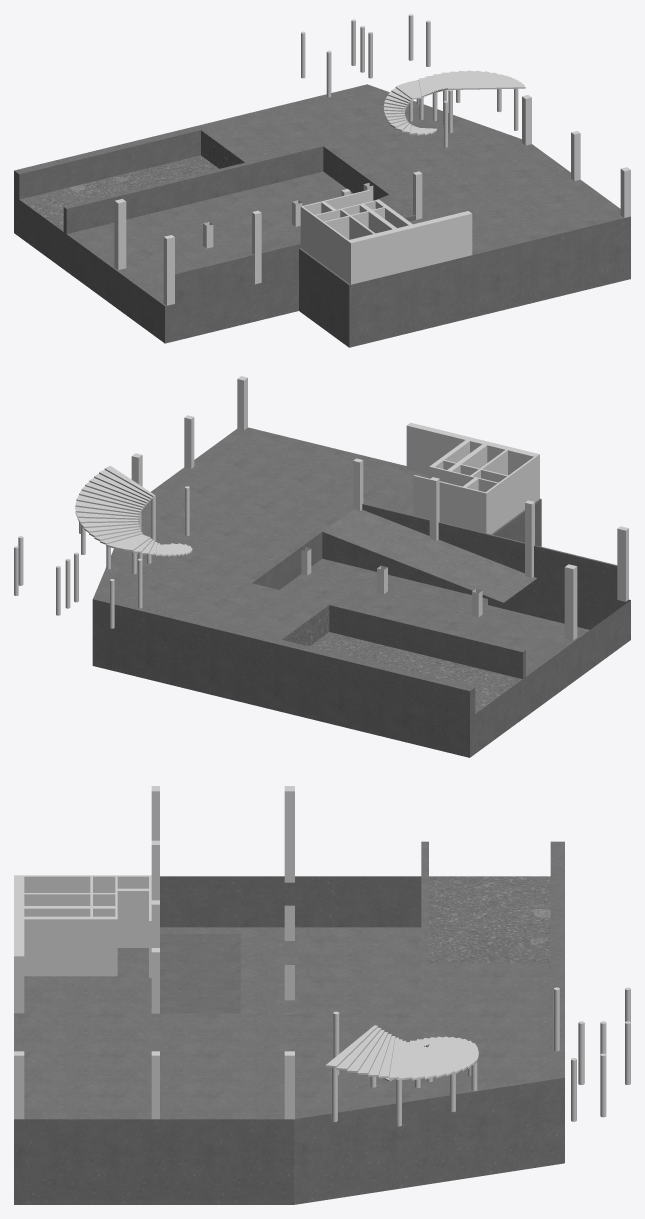
Rendered from Build_B1.fbx.
3 views of the same model, one above another, from view 1: azimuth 30°, elevation 25°; view 2: azimuth 150°, elevation 25°; view 3: azimuth 270°, elevation 25° (orthographic). The views are drawn at different scales.
Parts seen in each view (by area): view 1: B1_floor, B1_piller; view 2: B1_floor, B1_piller; view 3: B1_floor, B1_piller.
Boxes of the visible parts, x1=… form: B1_floor: x1=14, y1=84, x2=630, y2=347; B1_piller: x1=114, y1=14, x2=630, y2=305; B1_floor: x1=92, y1=427, x2=630, y2=757; B1_piller: x1=14, y1=376, x2=628, y2=640; B1_floor: x1=14, y1=841, x2=564, y2=1204; B1_piller: x1=14, y1=786, x2=630, y2=1126.
Bounding box in the file's own units: 5511 × 1341 × 5018.
Materials: 2 (1 with a texture image).
